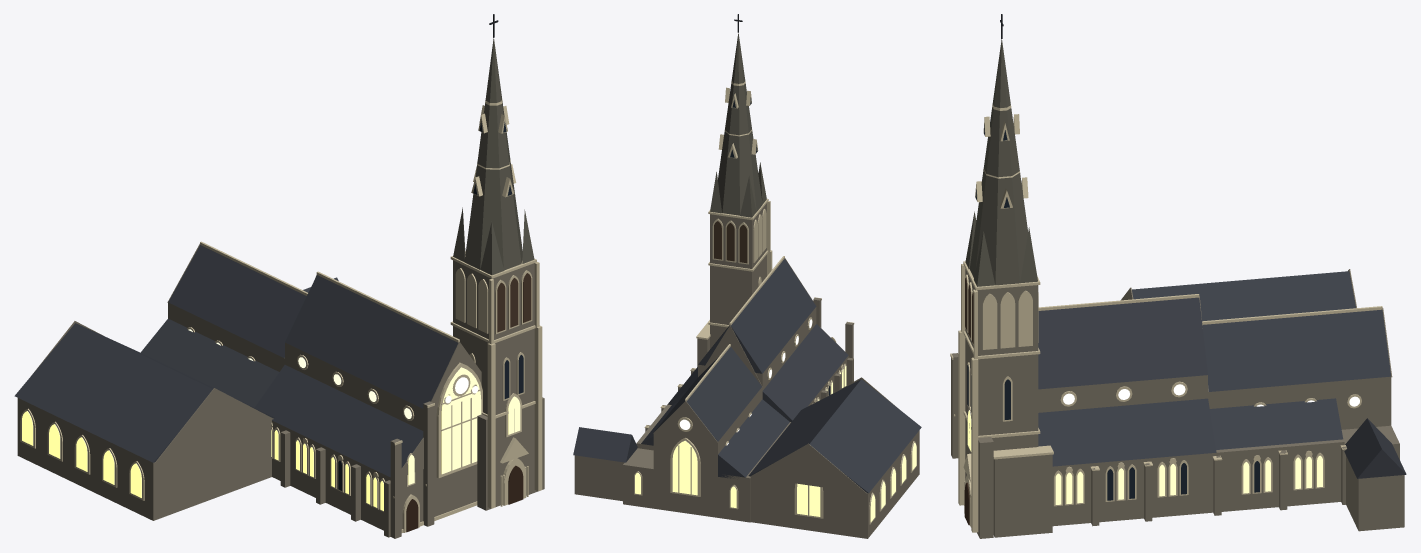
File: english_martyrs.glb
3 renders of one model, left to right at view 1: azimuth 30°, elevation 25°; view 2: azimuth 150°, elevation 25°; view 3: azimuth 270°, elevation 25°, orthographic. The views are drawn at different scales.
Parts seen in each view (by area): view 1: Slate_Roof, Ragstone, Bath_Stone, Spire_Stone, Church_Glow, Wood_Louvre, Door_Wood, Glass_Dark; view 2: Slate_Roof, Ragstone, Bath_Stone, Spire_Stone, Church_Glow, Wood_Louvre; view 3: Slate_Roof, Ragstone, Bath_Stone, Spire_Stone, Church_Glow, Glass_Dark.
Boxes of the visible parts, x1,y1,x2,y2 form: Slate_Roof: [14, 245, 458, 477]; Ragstone: [17, 244, 544, 538]; Bath_Stone: [20, 98, 542, 532]; Spire_Stone: [453, 38, 534, 275]; Church_Glow: [22, 367, 520, 510]; Wood_Louvre: [497, 273, 531, 332]; Door_Wood: [406, 465, 523, 532]; Glass_Dark: [338, 121, 523, 490]; Slate_Roof: [573, 258, 921, 493]; Ragstone: [574, 203, 919, 538]; Bath_Stone: [634, 81, 916, 524]; Spire_Stone: [710, 33, 766, 217]; Church_Glow: [635, 365, 916, 521]; Wood_Louvre: [714, 221, 747, 263]; Slate_Roof: [1038, 271, 1406, 478]; Ragstone: [951, 269, 1404, 538]; Bath_Stone: [950, 104, 1382, 532]; Spire_Stone: [965, 39, 1037, 286]; Church_Glow: [967, 410, 1322, 504]; Glass_Dark: [967, 124, 1259, 500].
Size of the model in its own units: 37.71 by 47.3 by 38.85.
